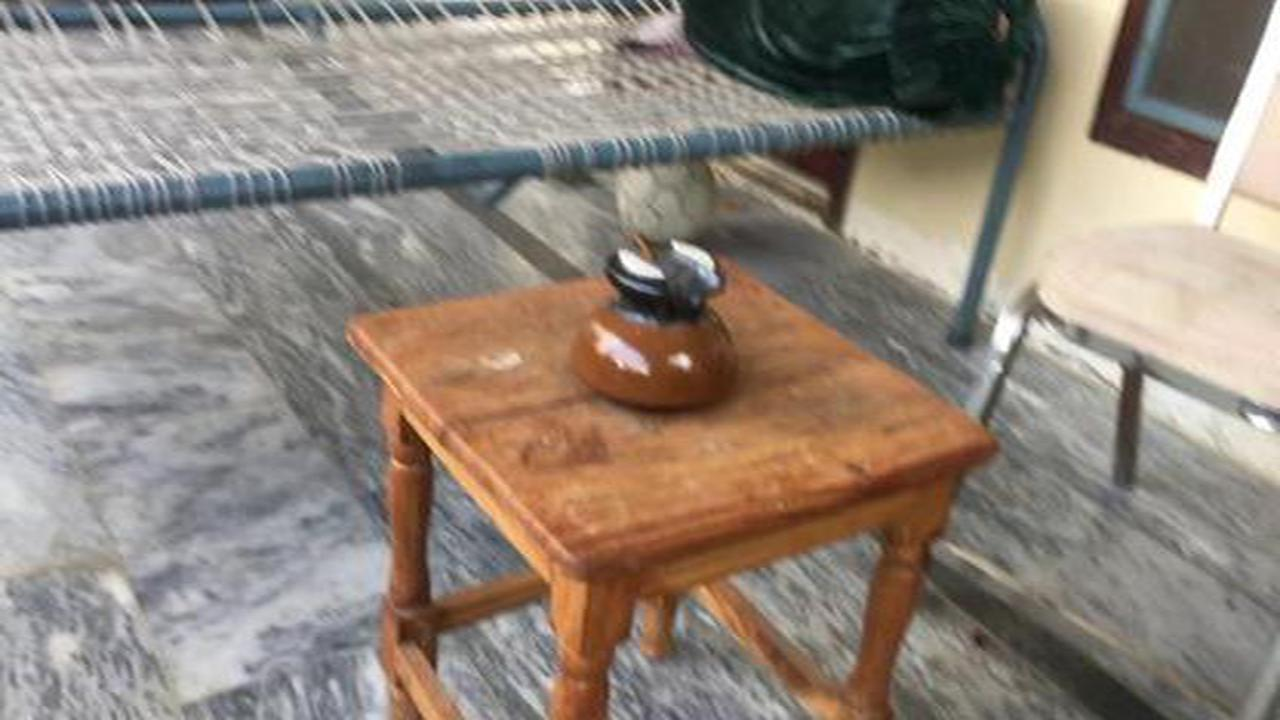insulator_pin: (554, 226, 757, 416)
